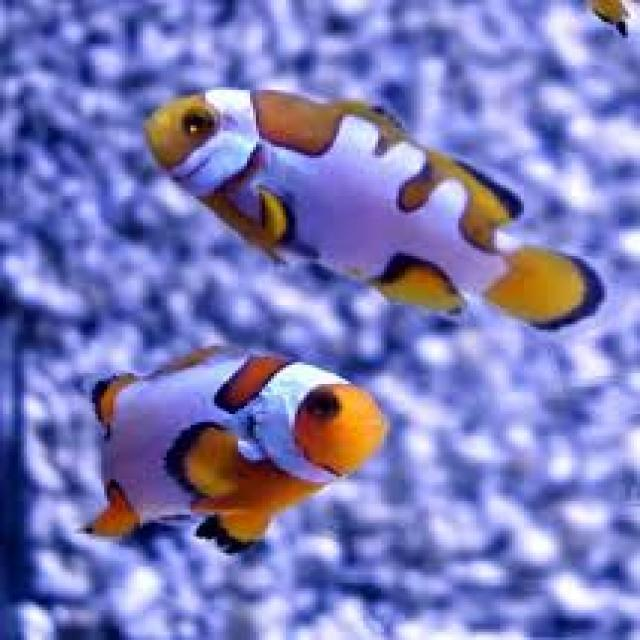ClownFish: (143, 88, 606, 334), (78, 345, 386, 552)
